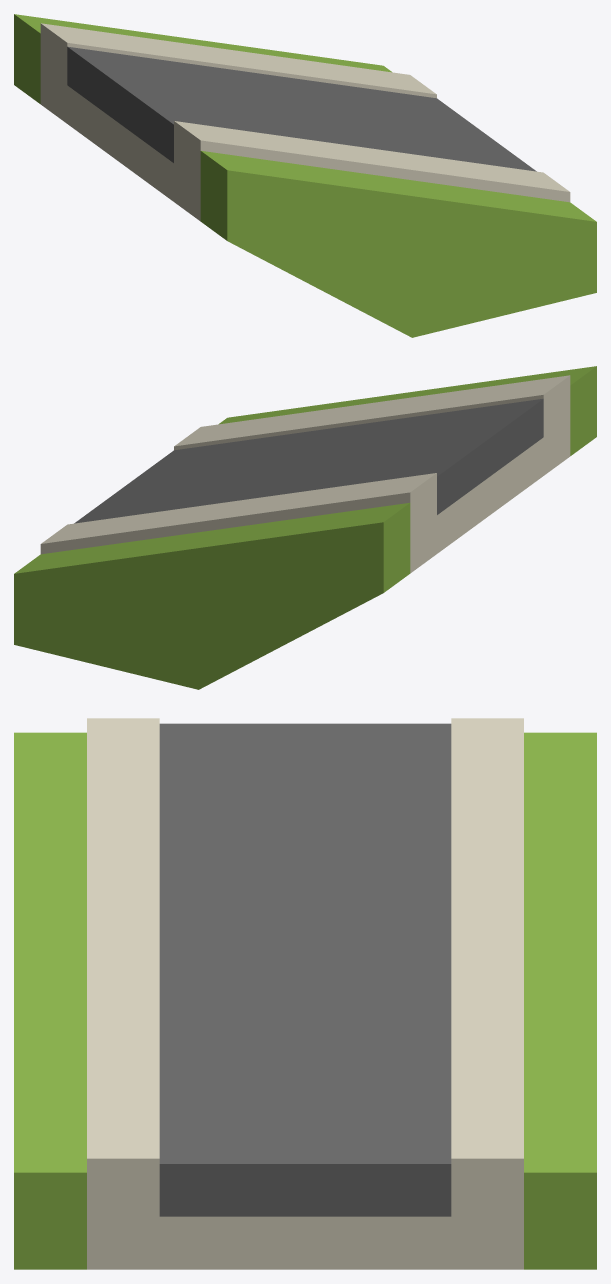
File: roadTile_171.obj
3 renders of one model, top to bottom at view 1: azimuth 30°, elevation 25°; view 2: azimuth 150°, elevation 25°; view 3: azimuth 270°, elevation 25°, orthographic. The views are drawn at different scales.
Parts seen in each view (by area): view 1: roadTile_171; view 2: roadTile_171; view 3: roadTile_171.
Boxes of the visible parts, <box> form: roadTile_171: <box>14,14,596,337</box>; roadTile_171: <box>14,366,596,689</box>; roadTile_171: <box>14,718,596,1269</box>.
Size of the model in its own units: 3 by 1.73 by 3.
